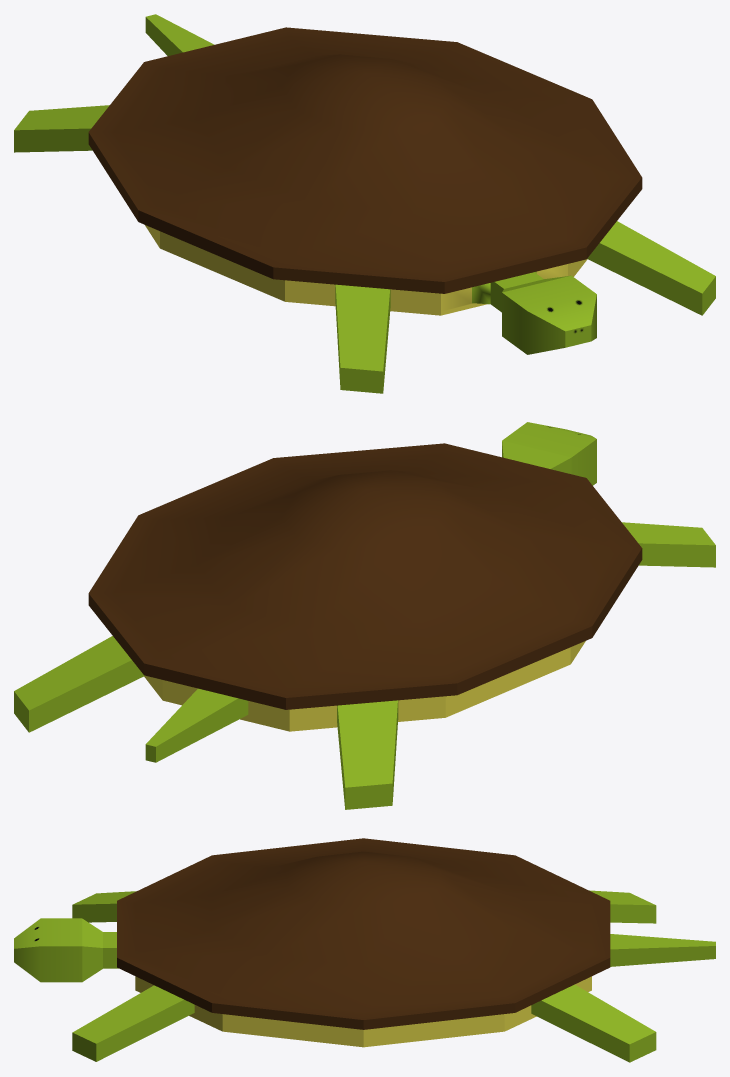
File: turtle.gltf
The picture shows the model from 3 angles, top to bottom: view 1: azimuth 30°, elevation 25°; view 2: azimuth 150°, elevation 25°; view 3: azimuth 270°, elevation 25°; orthographic projection. The views are drawn at different scales.
Parts seen in each view (by area): view 1: turtle.001; view 2: turtle.001; view 3: turtle.001.
Part boxes in pixels (x1,y1,x2,y2): turtle.001: (14, 14, 715, 393); turtle.001: (14, 422, 715, 809); turtle.001: (14, 838, 715, 1062).
Bounding box in the file's own units: 1.73 × 0.5548 × 2.82.
1 material, 1 textured.
